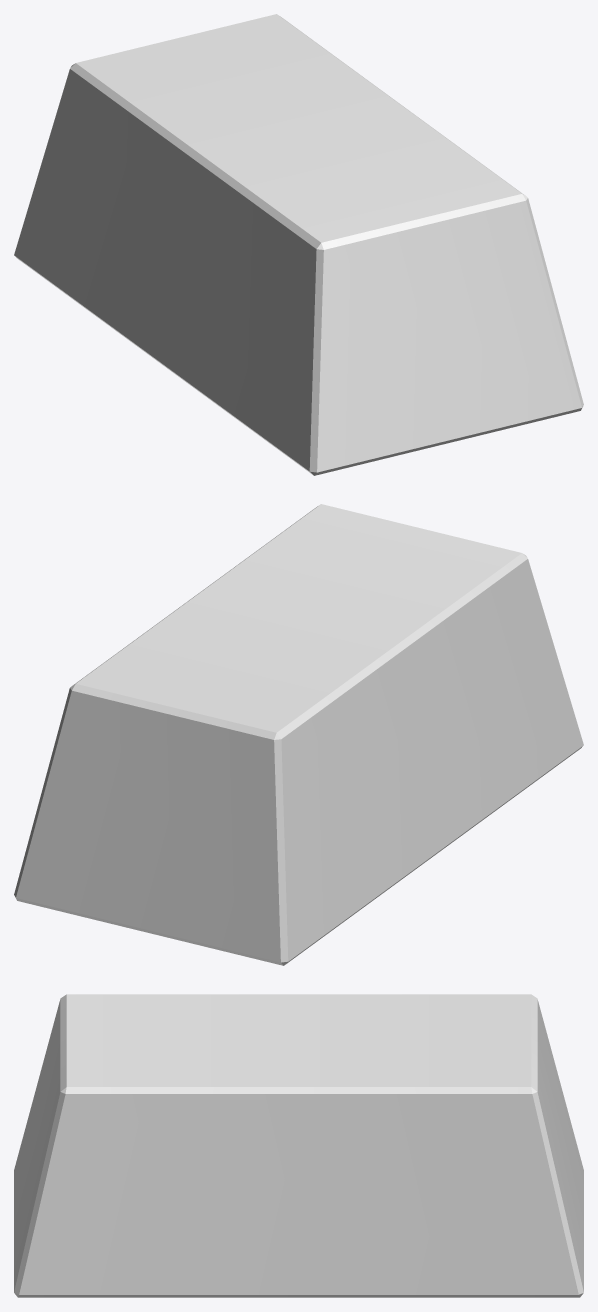
Rendered from SILVER BAR.fbx.
The picture shows the model from 3 angles, top to bottom: view 1: azimuth 30°, elevation 25°; view 2: azimuth 150°, elevation 25°; view 3: azimuth 270°, elevation 25°; orthographic projection. The views are drawn at different scales.
Visible parts, largest first — view 1: Cube.004; view 2: Cube.004; view 3: Cube.004.
Boxes of the visible parts, x1,y1,x2,y2 form: Cube.004: (14, 14, 583, 475); Cube.004: (14, 504, 583, 965); Cube.004: (14, 994, 583, 1297).
Size of the model in its own units: 59.85 by 43.02 by 114.
